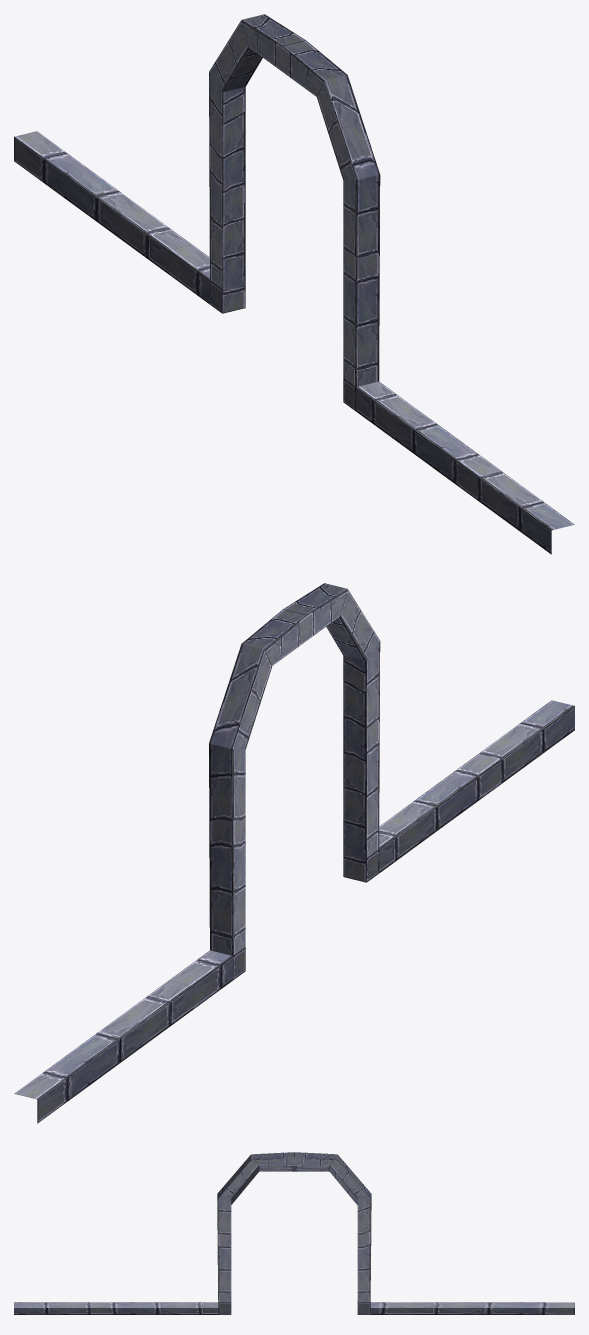
File: Dungeon_plith_entry.FBX
3 renders of one model, top to bottom at view 1: azimuth 30°, elevation 25°; view 2: azimuth 150°, elevation 25°; view 3: azimuth 270°, elevation 25°, orthographic. The views are drawn at different scales.
Parts seen in each view (by area): view 1: wall_entry; view 2: wall_entry; view 3: wall_entry.
Part boxes in pixels (left/top/right/bottom): wall_entry: left=14, top=14, right=574, bottom=554; wall_entry: left=14, top=583, right=574, bottom=1123; wall_entry: left=14, top=1152, right=574, bottom=1314.
Size of the model in its own units: 25 by 320 by 1000.
1 material, 1 textured.
